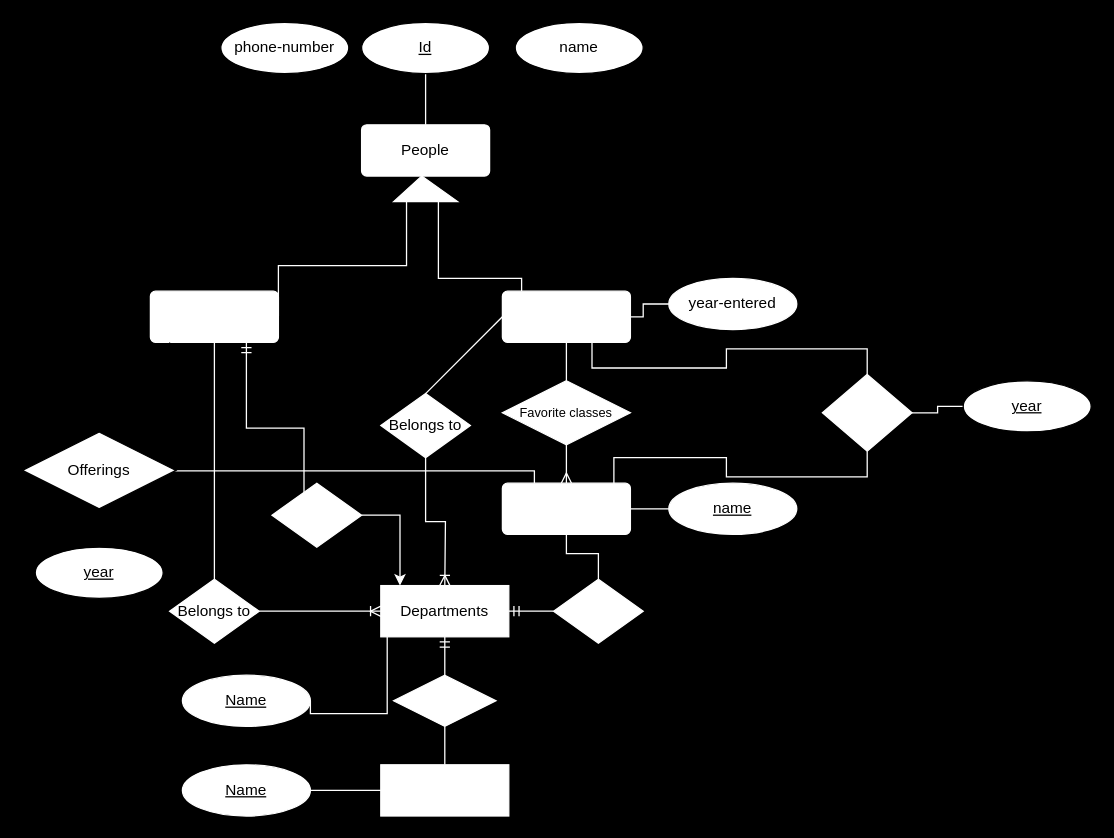
This 1114x838 diagram has some shape labels left out. The shapes that lost their labels are listed below. From the top down, each one's box as (x1, y1, x2, y2) in pixels, then its label:
(149, 290, 278, 342): Teachers
(501, 290, 630, 342): Students
(821, 373, 912, 451): Enrolled in
(271, 482, 362, 547): Is head of
(501, 482, 630, 534): Courses
(552, 578, 643, 643): Offers
(392, 674, 496, 726): Has clubs
(380, 764, 509, 816): Clubs
